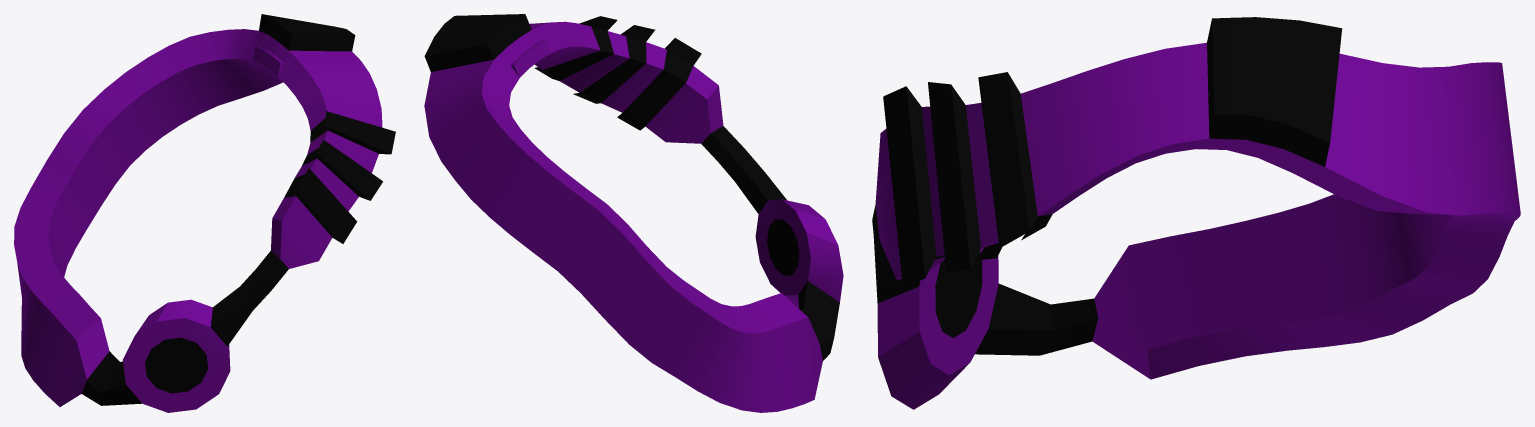
Rendered from Belt.fbx.
The picture shows the model from 3 angles, left to right: view 1: azimuth 30°, elevation 25°; view 2: azimuth 150°, elevation 25°; view 3: azimuth 270°, elevation 25°; orthographic projection. The views are drawn at different scales.
Parts seen in each view (by area): view 1: BezierCircle.001; view 2: BezierCircle.001; view 3: BezierCircle.001.
Part boxes in pixels (x1=…): BezierCircle.001: x1=14, y1=14, x2=395, y2=412; BezierCircle.001: x1=424, y1=14, x2=843, y2=412; BezierCircle.001: x1=872, y1=17, x2=1520, y2=409.
Size of the model in its own units: 223 by 205 by 200.
